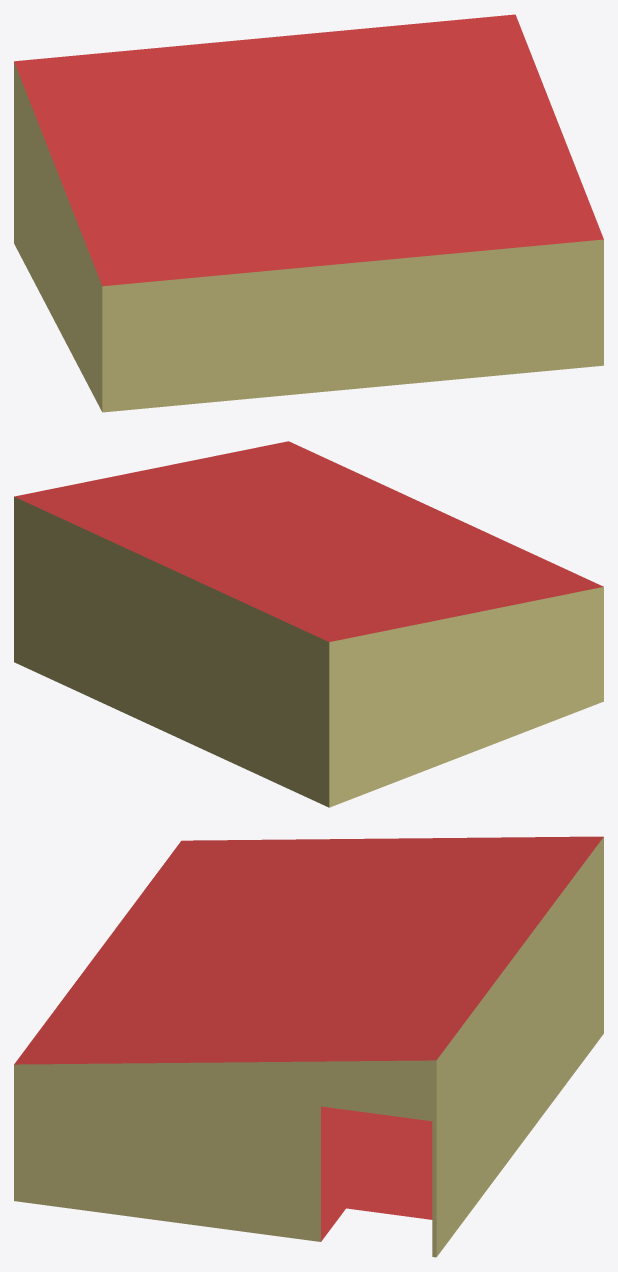
3 views of the same model, one above another, from view 1: azimuth 30°, elevation 25°; view 2: azimuth 150°, elevation 25°; view 3: azimuth 270°, elevation 25° (orthographic). The views are drawn at different scales.
Bounding box in the file's own units: 37.89 × 33.7 × 12.42.
